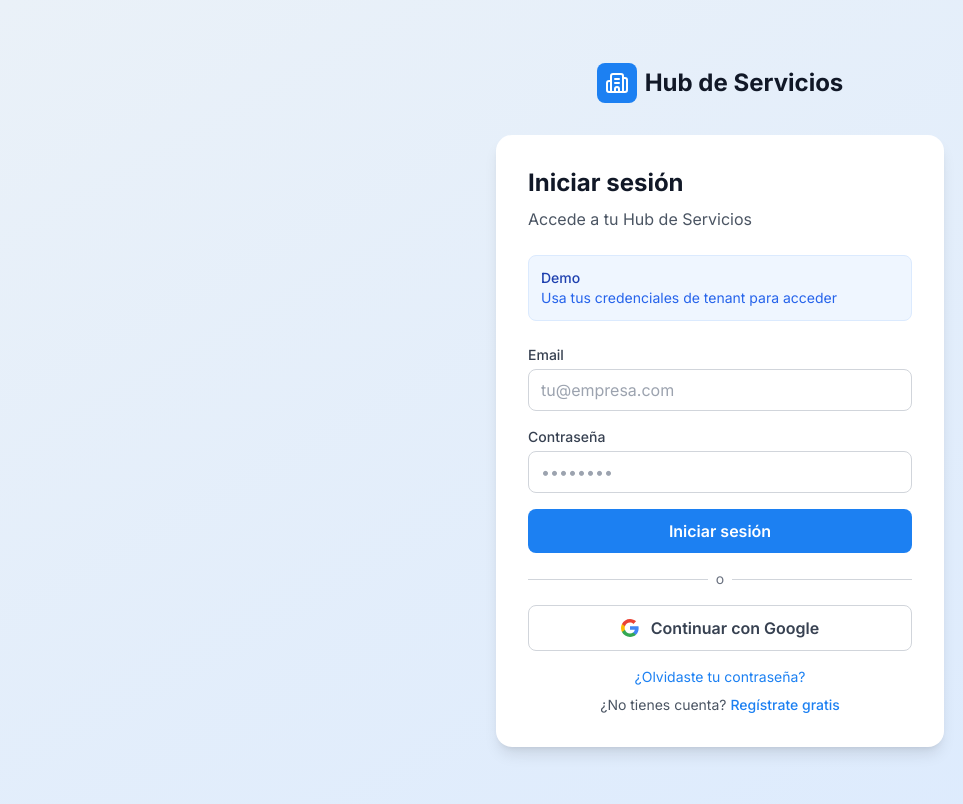
LoginPageClient › muestra error de credenciales inválidas tras submit fallido
The image size is (963, 804).
Type "bad@acme.com" into the field with placeholder "tu@empresa.com" at (720,390), box [528, 369, 912, 411]
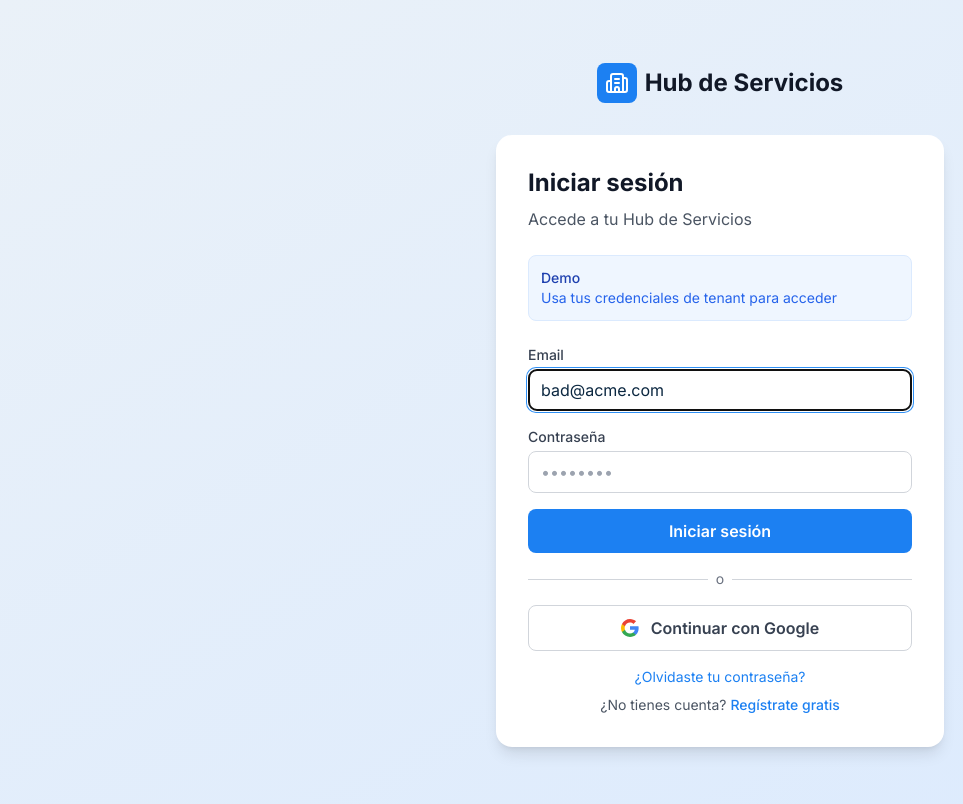
Type "wrongpass" into the password field with placeholder "••••••••" at (720,472), box [528, 451, 912, 493]
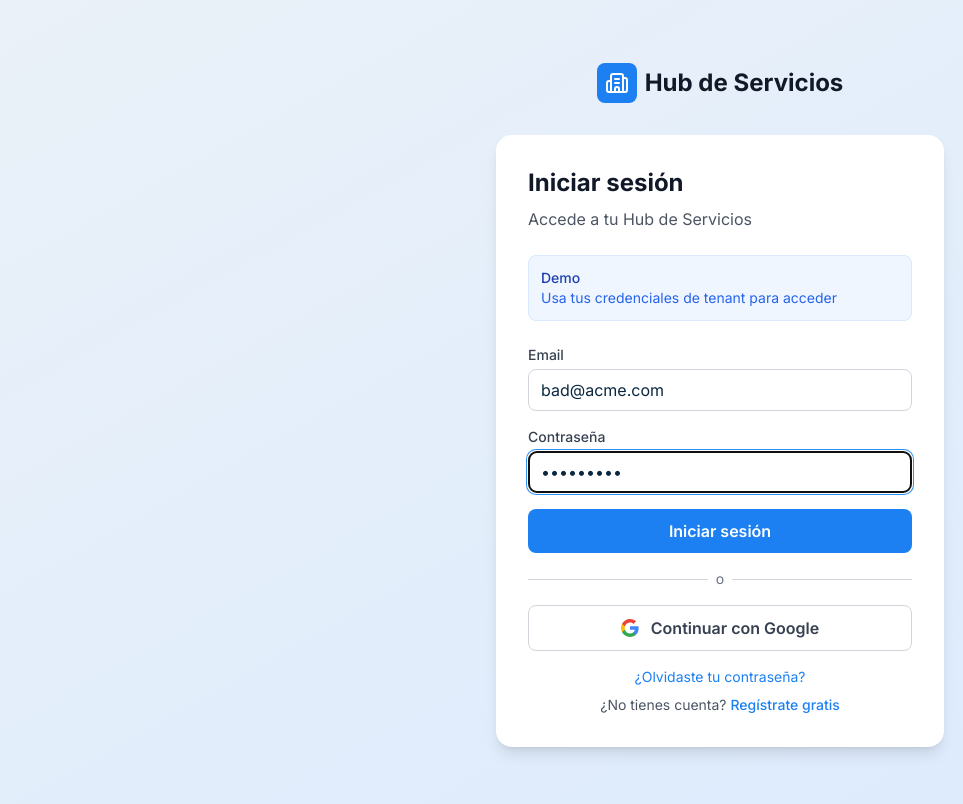
Click the button "Iniciar sesión" at (720,531), box [528, 509, 912, 553]
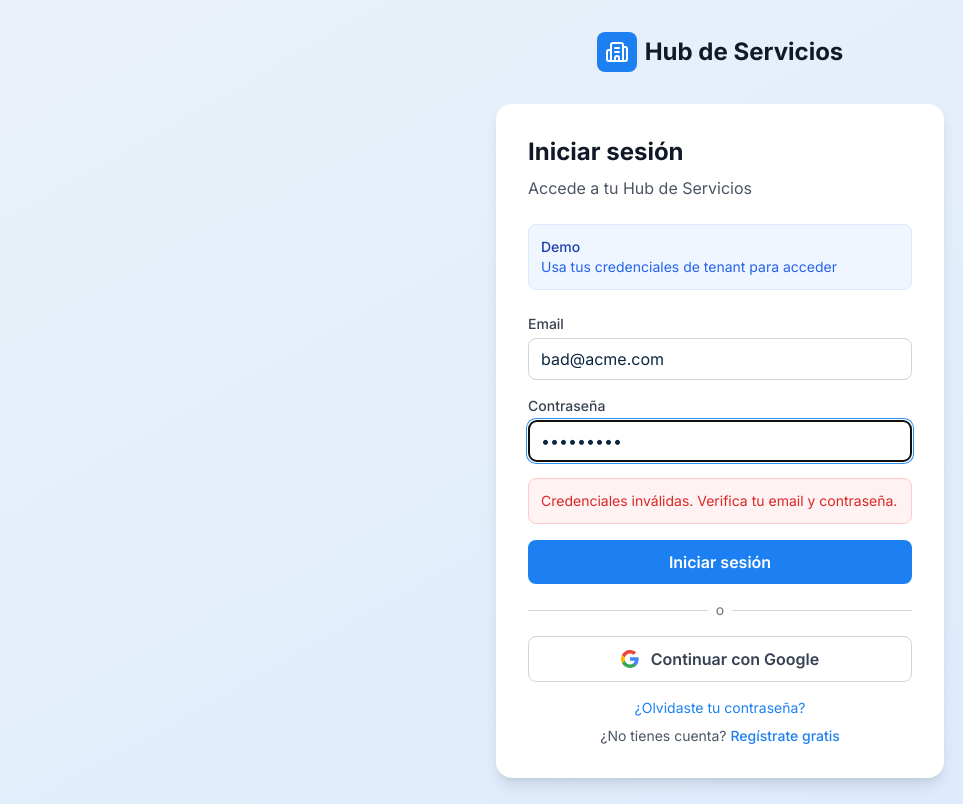
Expected: the text "Credenciales inválidas. Verifica tu email y contraseña." is shown, [528, 478, 912, 524]
